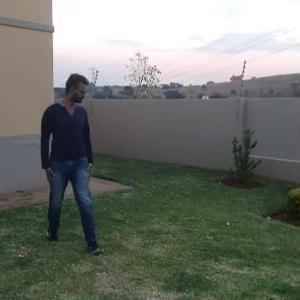follow: (41, 64, 108, 263)
